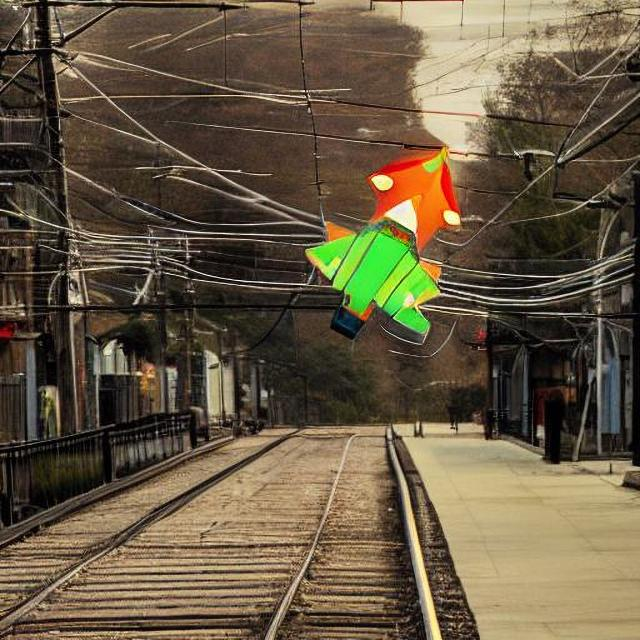floating object: (309, 189, 447, 338), (344, 144, 459, 274)
